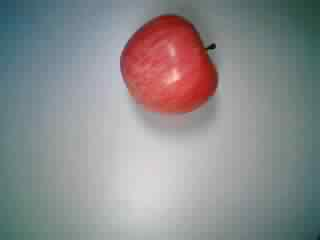apple: (116, 14, 221, 116)
